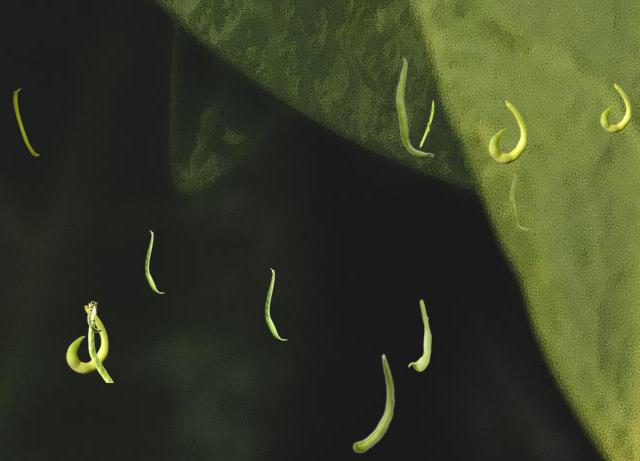french_bean: (352, 353, 394, 452), (395, 57, 433, 156), (66, 305, 107, 372), (488, 100, 526, 162), (87, 301, 112, 381), (13, 88, 38, 155), (408, 299, 430, 370), (265, 268, 286, 339), (600, 83, 630, 131), (509, 173, 531, 230), (145, 230, 163, 292), (419, 99, 433, 152)
